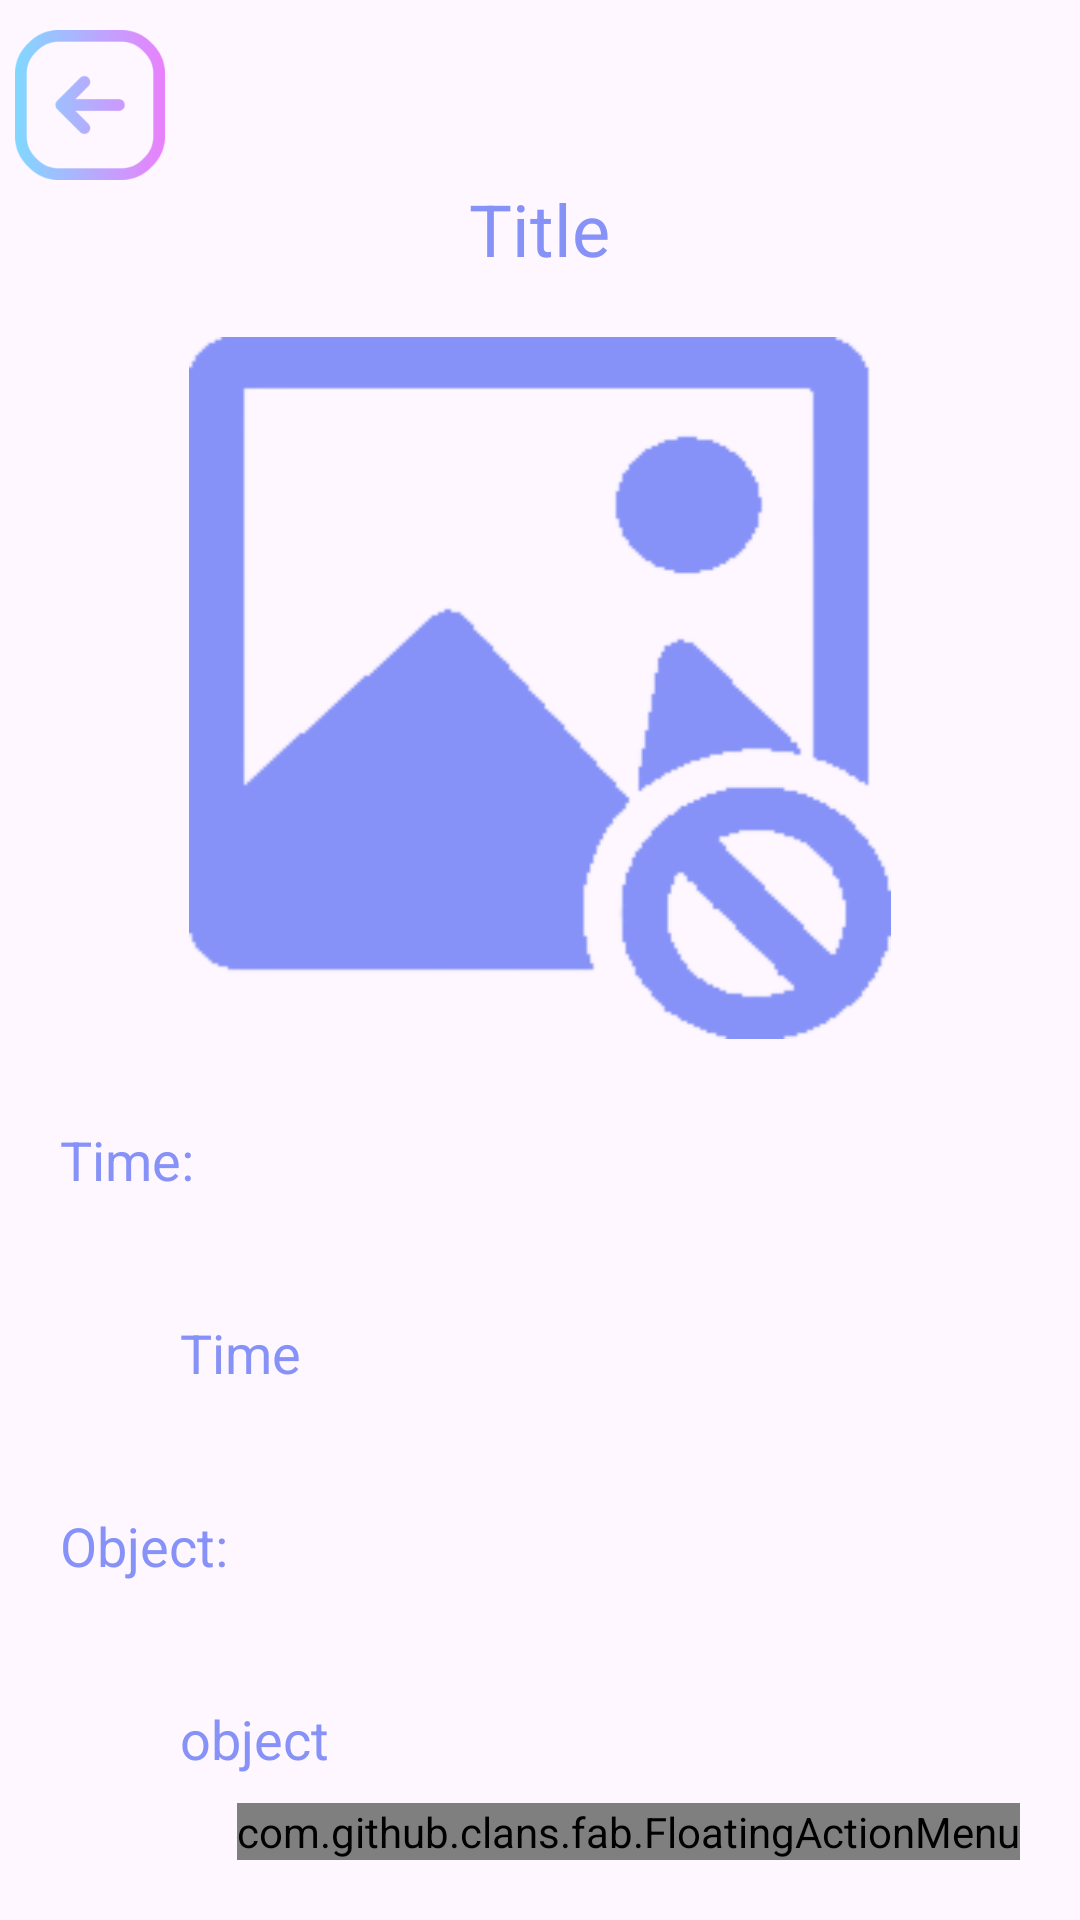

Icons on this 1080px x 1920px Android screen, each with the point to tap as point (x, y):
backicon: point (90, 105)
